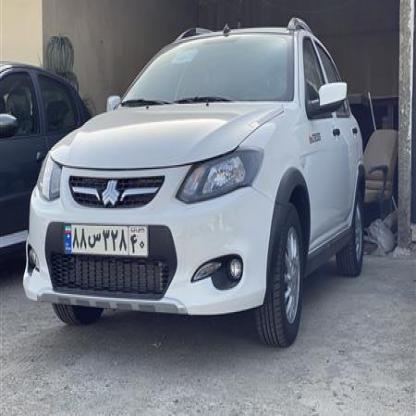Car: (34, 4, 370, 365), (0, 64, 103, 288)
